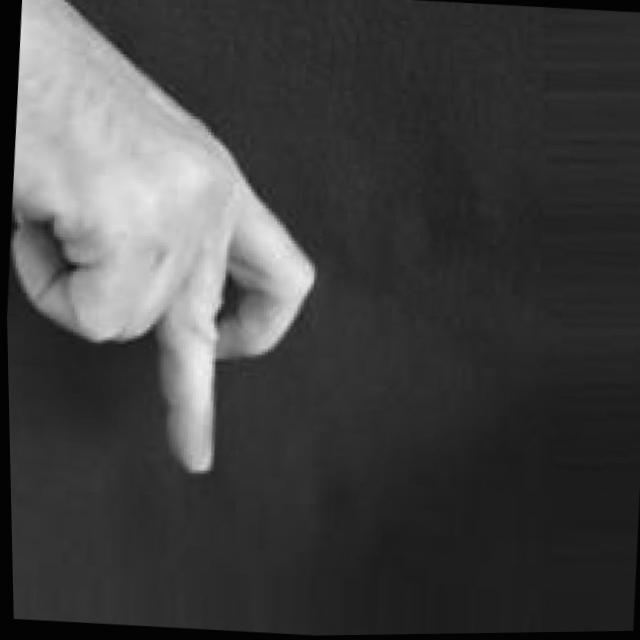P: (0, 0, 344, 498)
